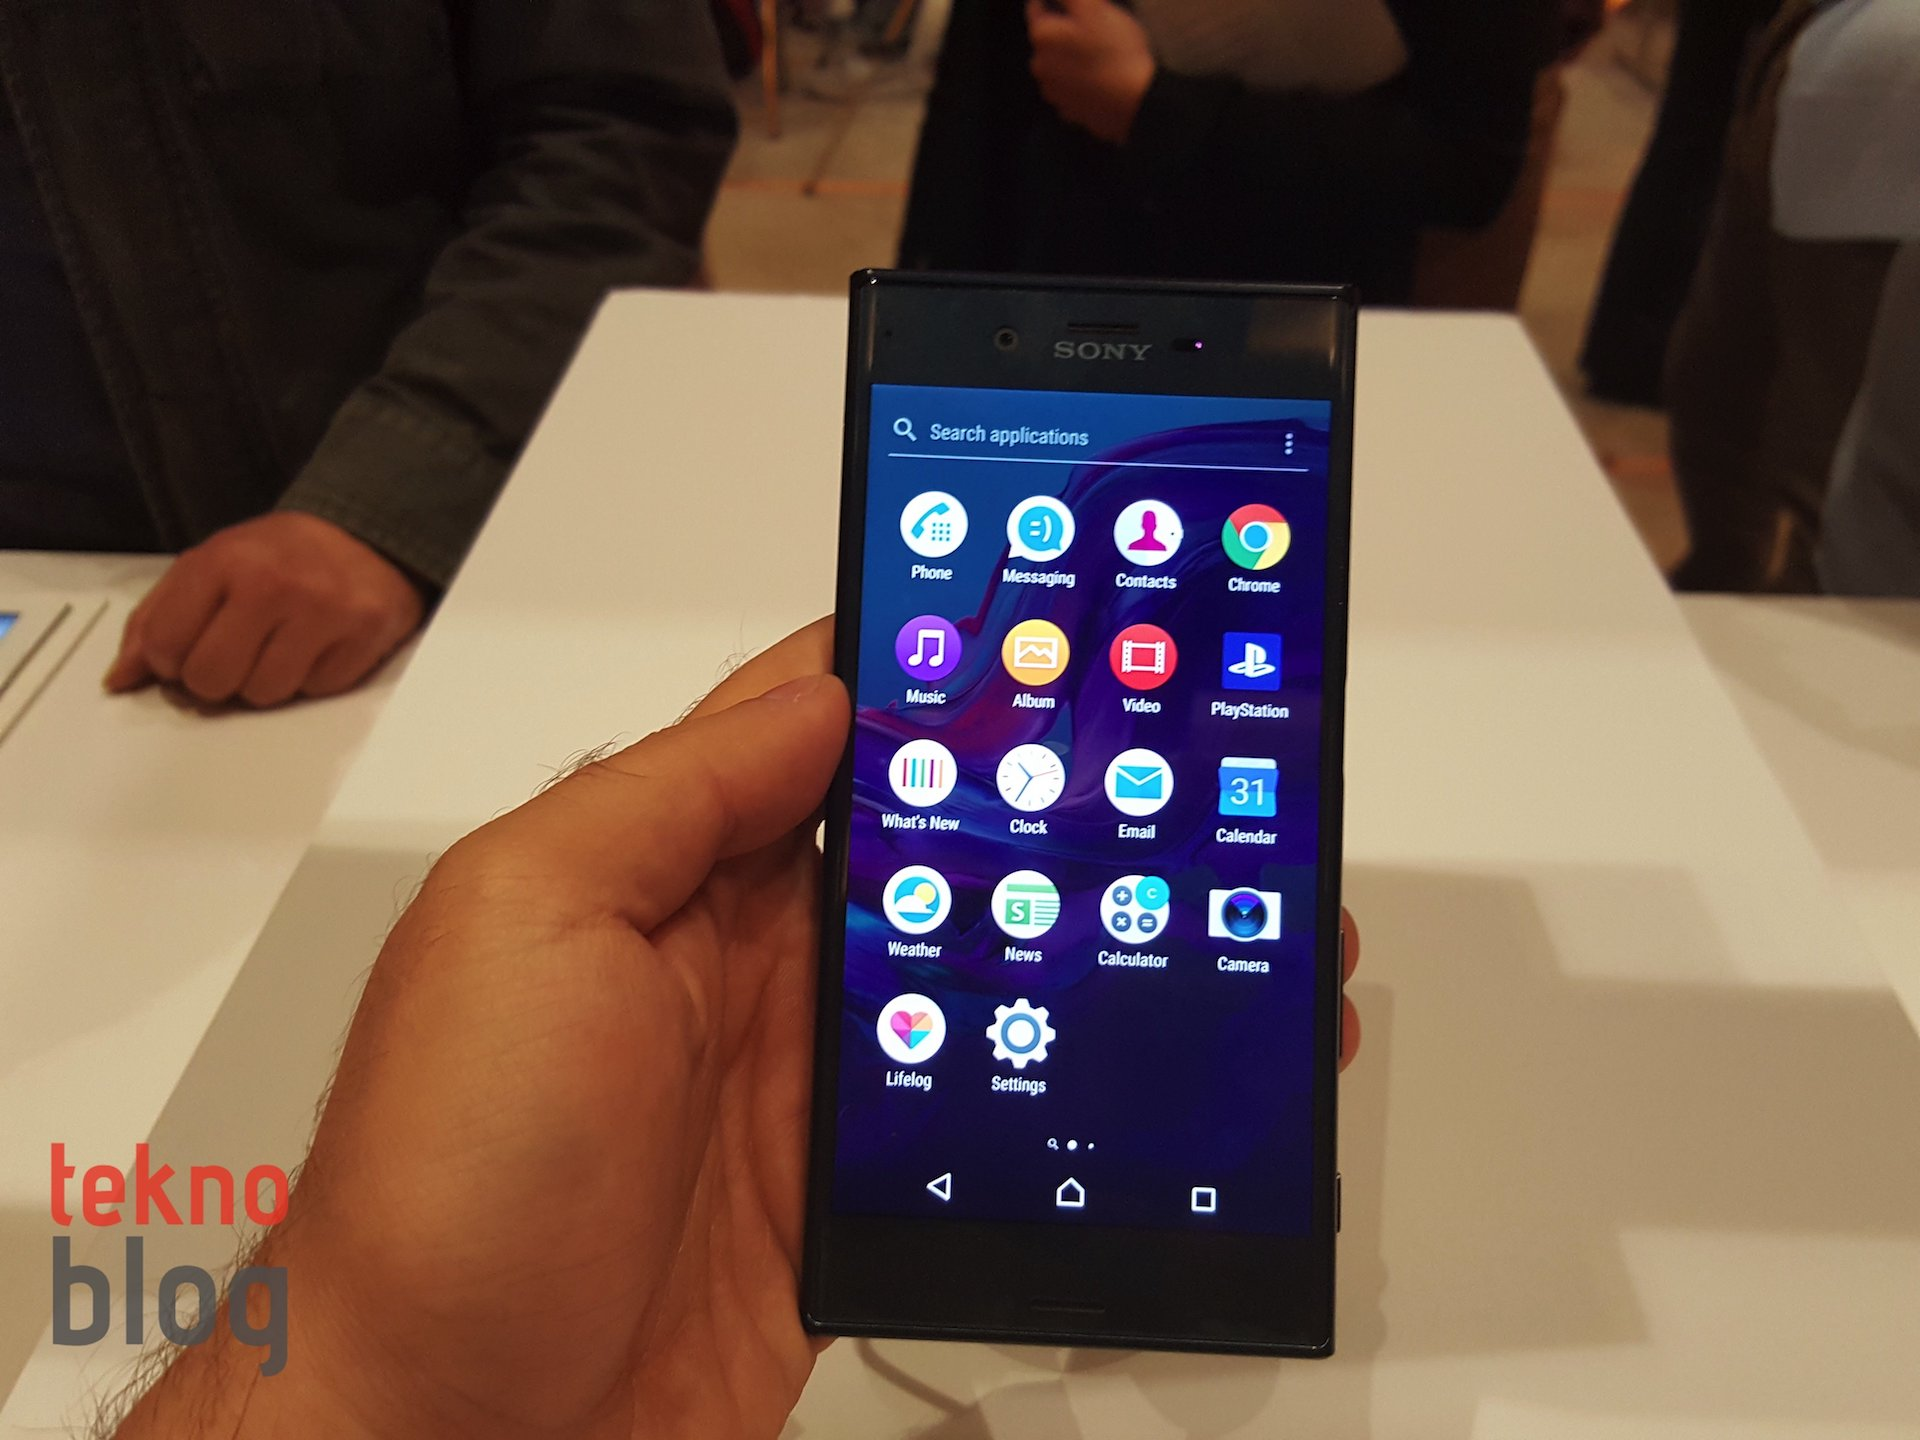smartphone: (797, 263, 1364, 1360)
